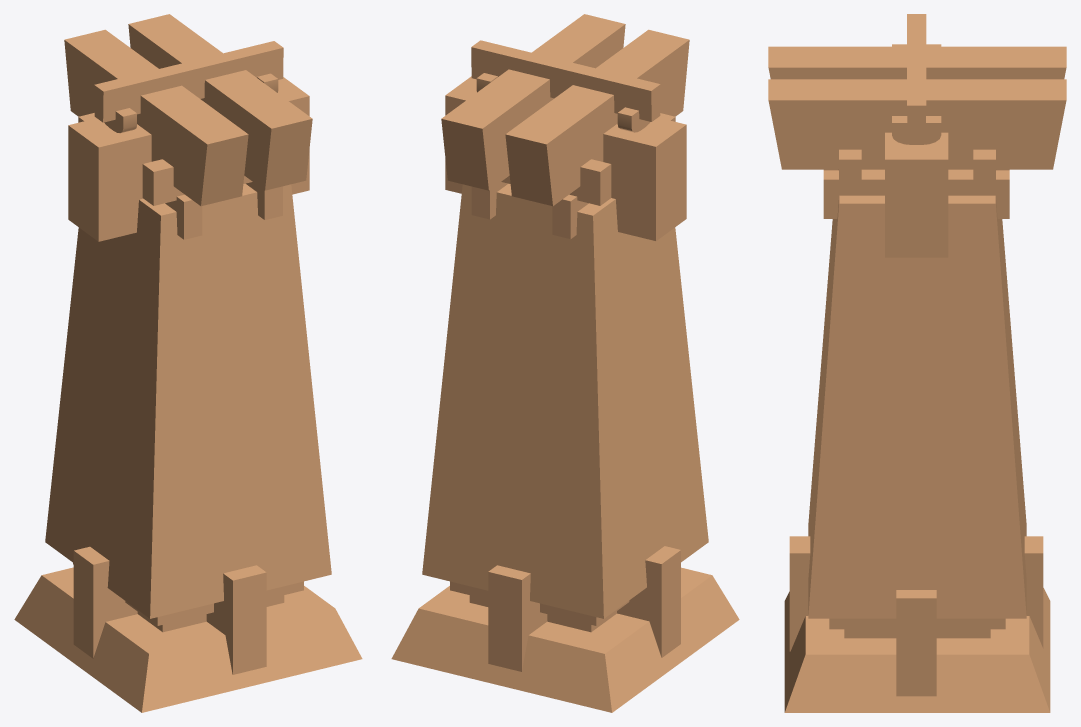
File: SM_PillarB_02.fbx
3 renders of one model, left to right at view 1: azimuth 30°, elevation 25°; view 2: azimuth 150°, elevation 25°; view 3: azimuth 270°, elevation 25°, orthographic. The views are drawn at different scales.
Visible parts, largest first — view 1: Cube.061; view 2: Cube.061; view 3: Cube.061.
Part boxes in pixels (left/top/right/bottom): Cube.061: left=14, top=14, right=362, bottom=712; Cube.061: left=391, top=14, right=739, bottom=712; Cube.061: left=768, top=14, right=1066, bottom=712.
Bounding box in the file's own units: 0.3536 × 0.8773 × 0.3969.
